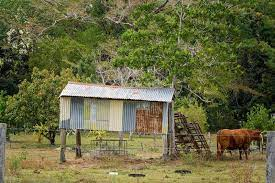Tin-shade House: (55, 77, 178, 140)
